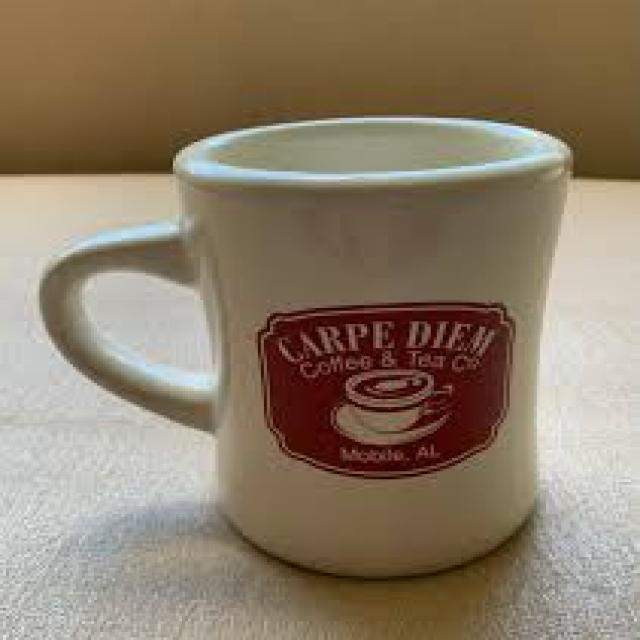taza: (39, 116, 572, 577)
